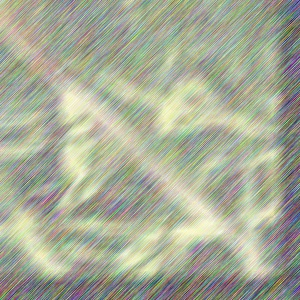Leaf_Blast: (108, 101, 171, 175)
